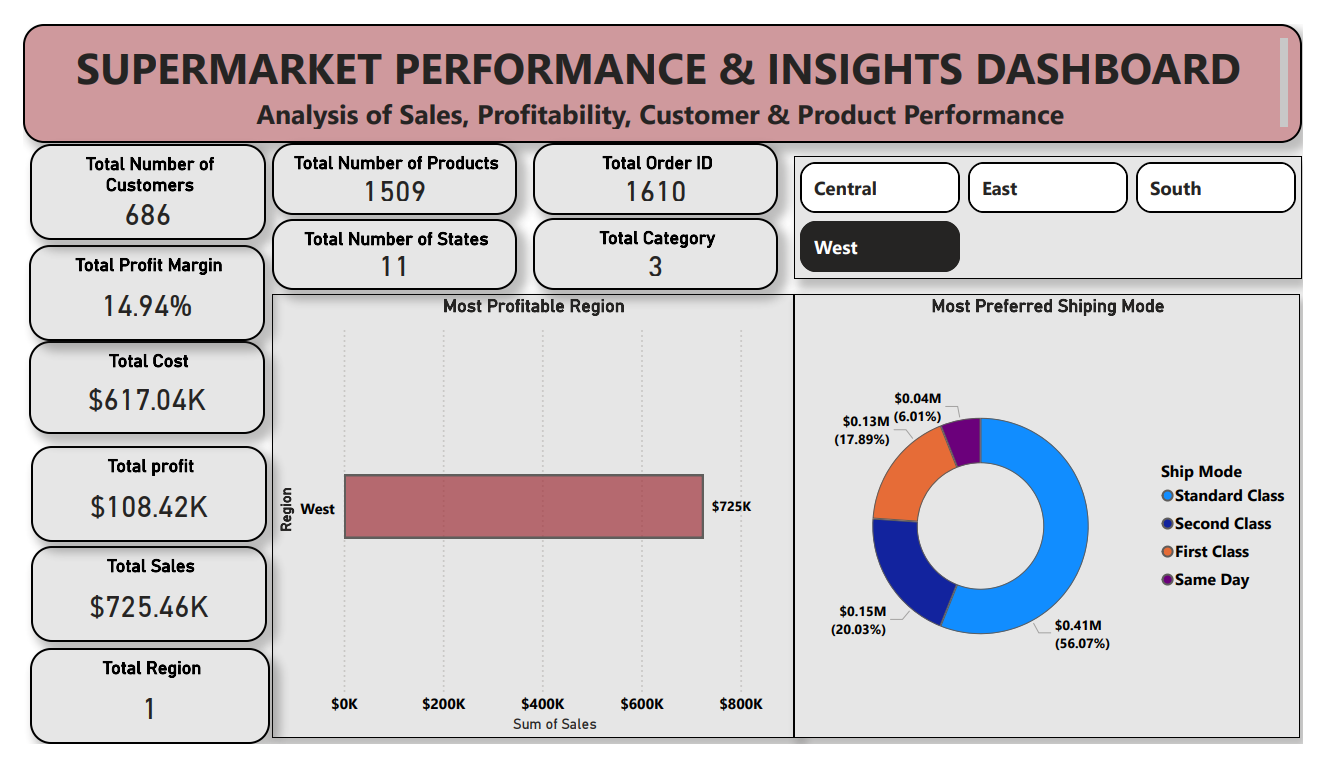

What the dashboard file says about the page in this screenshot:
{"tool":"powerbi","page":{"name":"Page 4","canvas":[1280,720],"ordinal":3},"visuals":[{"type":"textbox","box":[0,0,1279.4,119.1],"z":0},{"type":"clusteredBarChart","title":"Most Profitable Region","fields":{"Category":["Sample - Superstore excel cleaned.Region"],"Y":["Sum(Sample - Superstore excel cleaned.Sales)"]},"box":[250,270,520,443.3],"z":1000},{"type":"donutChart","title":"Most Preferred Shiping Mode","fields":{"Category":["Sample - Superstore excel cleaned.Ship Mode"],"Y":["Sum(Sample - Superstore excel cleaned.Sales)"]},"box":[771,270.2,506.5,444.1],"z":2000},{"type":"advancedSlicerVisual","fields":{"Values":["Sample - Superstore excel cleaned.Region"]},"box":[771,132.3,508.4,122.8],"z":3000},{"type":"card","title":"Total Sales","fields":{"Values":["Sum(Sample - Superstore excel cleaned.Sales)"]},"box":[7.6,521.6,236.2,96.4],"z":4000},{"type":"card","title":"Total Region","fields":{"Values":["Count(Sample - Superstore excel cleaned.Region)"]},"box":[7,623.6,240,96.4],"z":5000},{"type":"card","title":"Total profit","fields":{"Values":["Sum(Sample - Superstore excel cleaned.Profit)"]},"box":[7.6,422,236.2,96.4],"z":6000},{"type":"card","title":"Total Cost","fields":{"Values":["Sample - Superstore excel cleaned.Total Cost"]},"box":[5.7,317.5,236.2,92.6],"z":7000},{"type":"card","title":"Total Profit Margin","fields":{"Values":["Sample - Superstore excel cleaned.Profit Margin"]},"box":[5.7,221.1,236.2,96.4],"z":8000},{"type":"card","title":"Total Number of Customers","fields":{"Values":["Count(Sample - Superstore excel cleaned.Customer ID)"]},"box":[7,120,236.2,96.4],"z":9000},{"type":"card","title":"Total Number of Products","fields":{"Values":["Count(Sample - Superstore excel cleaned.Product ID)"]},"box":[249.5,119.1,245,72],"z":10000},{"type":"card","title":"Total Number of States","fields":{"Values":["Count(Sample - Superstore excel cleaned.State)"]},"box":[249.5,194.6,245,71.8],"z":11000},{"type":"card","title":"Total Order ID","fields":{"Values":["Count(Sample - Superstore excel cleaned.Order ID)"]},"box":[510.2,119.1,245,71.8],"z":12000},{"type":"card","title":"Total Category","fields":{"Values":["Count(Sample - Superstore excel cleaned.Category)"]},"box":[510.2,194,245,71.8],"z":13000}]}

Visuals, with their boxes in screenshot pixels (x1, y1, x2, y2), scaled from the page's 1280x720 canvas onto the 1325x766 screenshot:
textbox: <region>0, 0, 1324, 127</region>
"Most Profitable Region" clusteredBarChart: <region>259, 287, 797, 759</region>
"Most Preferred Shiping Mode" donutChart: <region>798, 287, 1322, 760</region>
advancedSlicerVisual - Sample - Superstore excel cleaned.Region: <region>798, 141, 1324, 271</region>
"Total Sales" card: <region>8, 555, 252, 657</region>
"Total Region" card: <region>7, 663, 256, 765</region>
"Total profit" card: <region>8, 449, 252, 552</region>
"Total Cost" card: <region>6, 338, 250, 436</region>
"Total Profit Margin" card: <region>6, 235, 250, 338</region>
"Total Number of Customers" card: <region>7, 128, 252, 230</region>
"Total Number of Products" card: <region>258, 127, 512, 203</region>
"Total Number of States" card: <region>258, 207, 512, 283</region>
"Total Order ID" card: <region>528, 127, 782, 203</region>
"Total Category" card: <region>528, 206, 782, 283</region>
